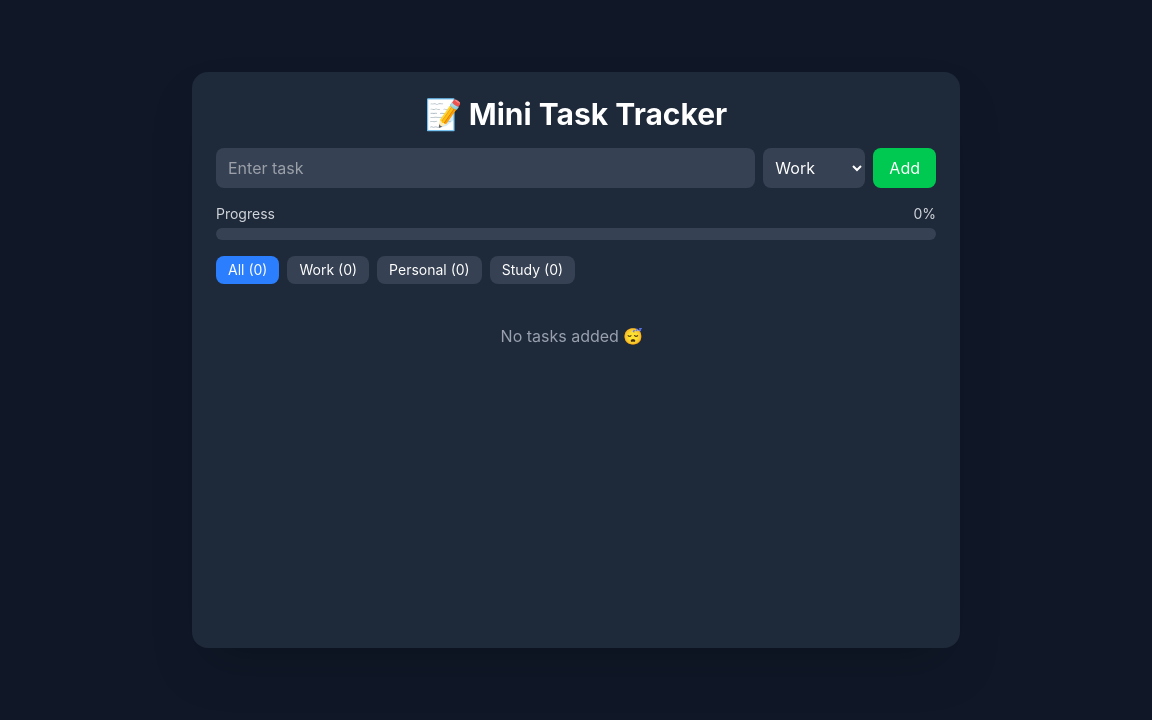
Test case: App - Task Tracker › deletes a task
Type "Delete Task" into the field at (486, 168), box [216,148,755,188]
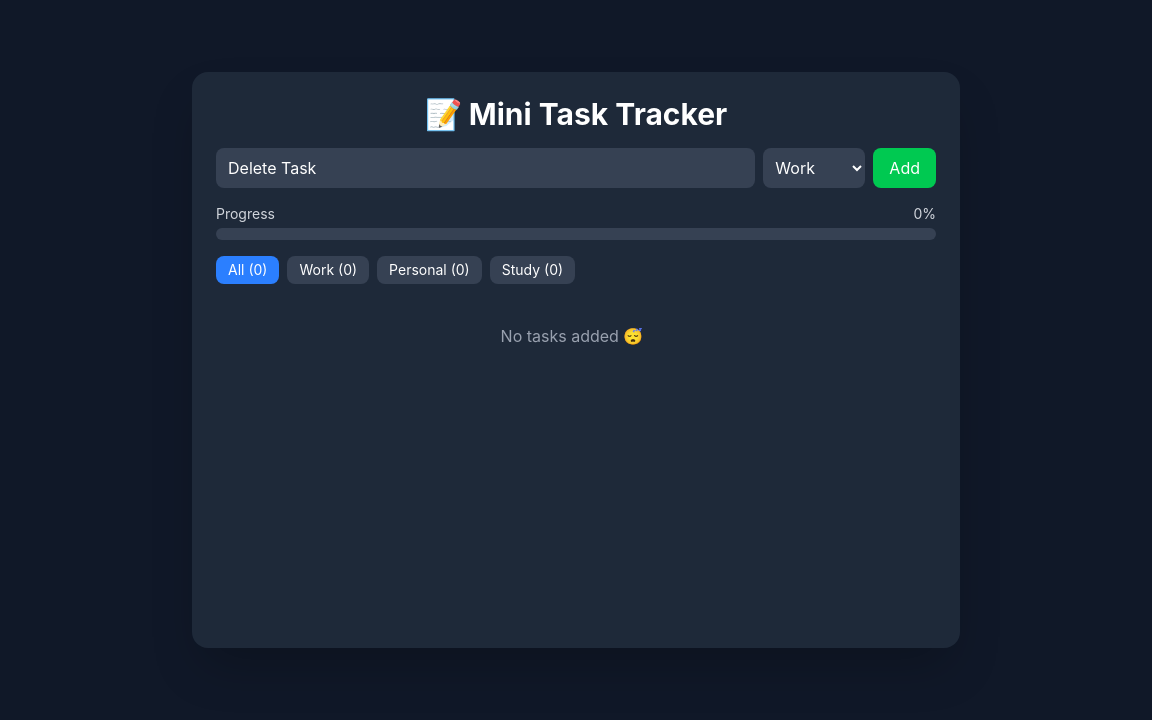
Click the button "Add" at (905, 168), box [873,148,936,188]
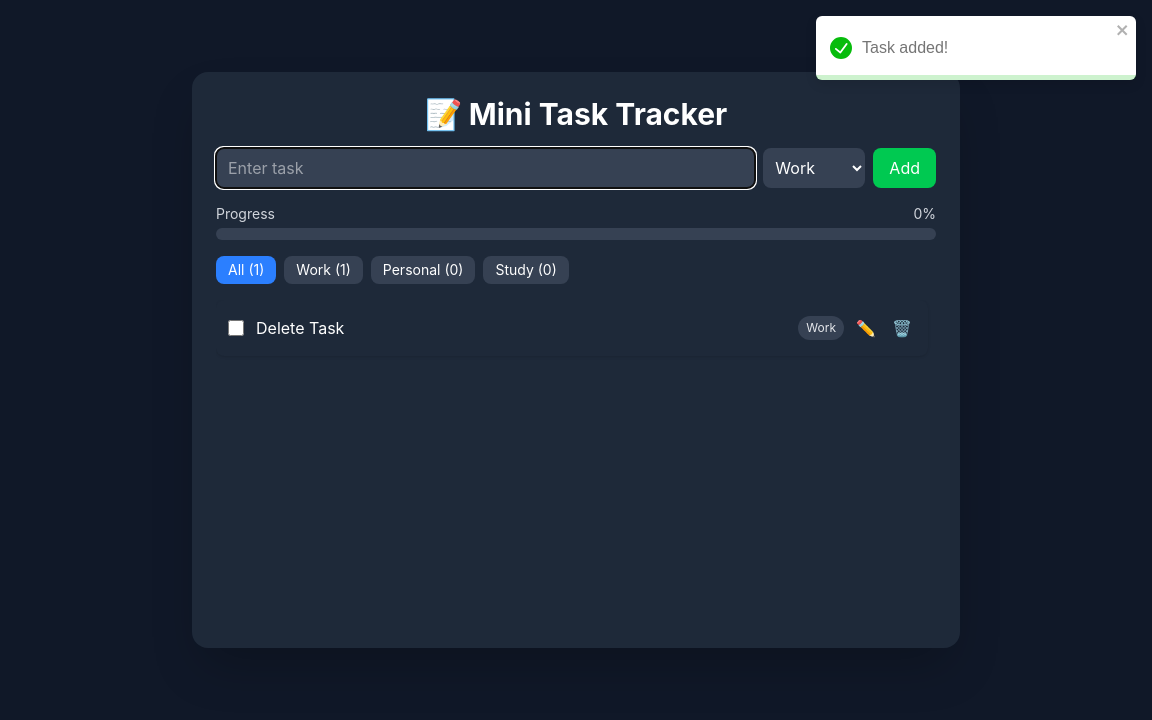
Click the button titled "Delete" at (902, 328), box [888,312,916,344]
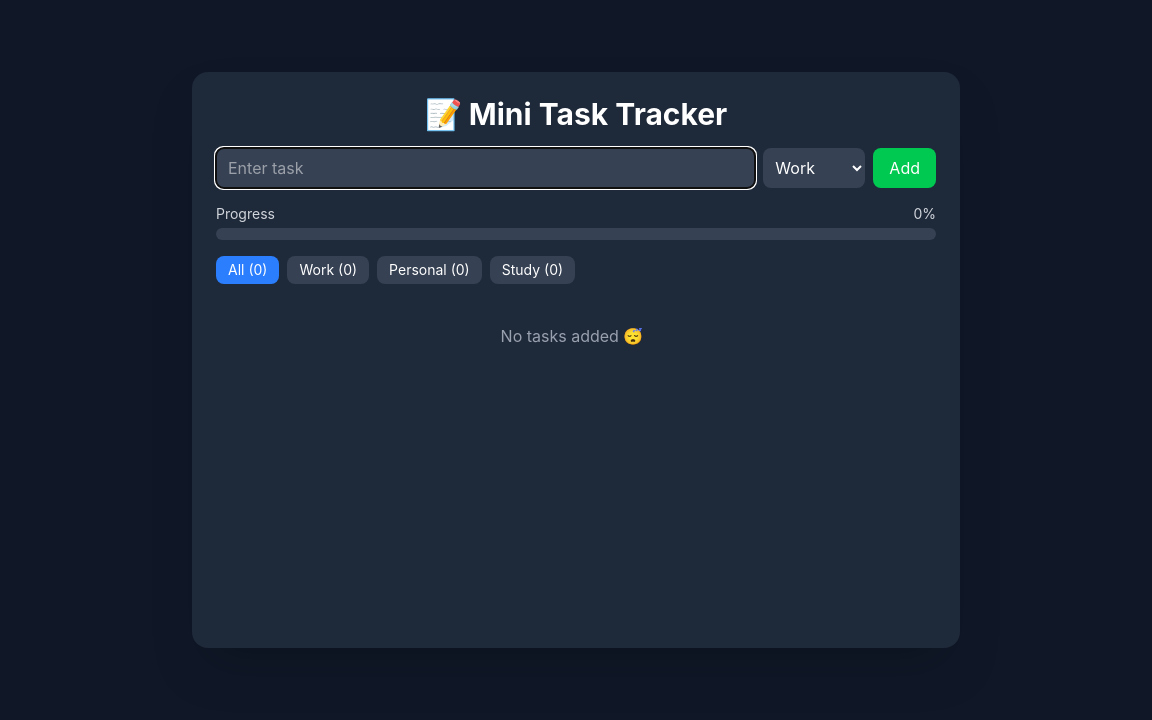
Expected: the text "Delete Task" is gone
